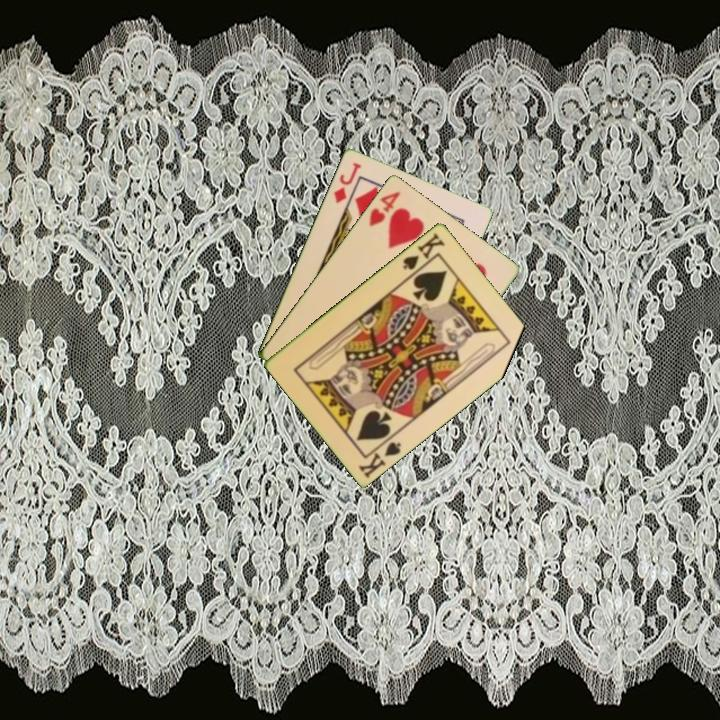4h: (365, 187, 403, 229)
Jd: (330, 158, 364, 206)
Ks: (355, 430, 404, 481), (399, 229, 448, 272)
